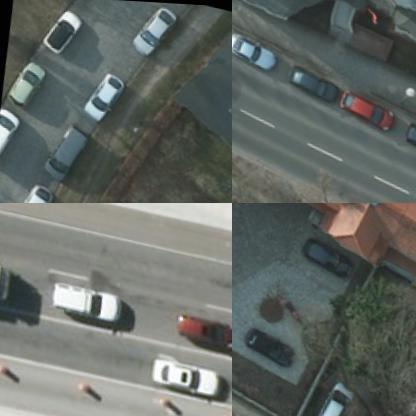car: (40, 278, 124, 324), (143, 351, 221, 395), (37, 120, 87, 185), (166, 307, 231, 357), (128, 0, 180, 60), (76, 67, 123, 126), (233, 326, 296, 369), (332, 87, 392, 130), (37, 3, 82, 58), (294, 240, 354, 278), (1, 60, 42, 108), (304, 375, 353, 415), (280, 68, 336, 100), (232, 35, 276, 72), (0, 109, 21, 170), (3, 181, 52, 202), (396, 117, 415, 166)
truck: (0, 248, 13, 308)
